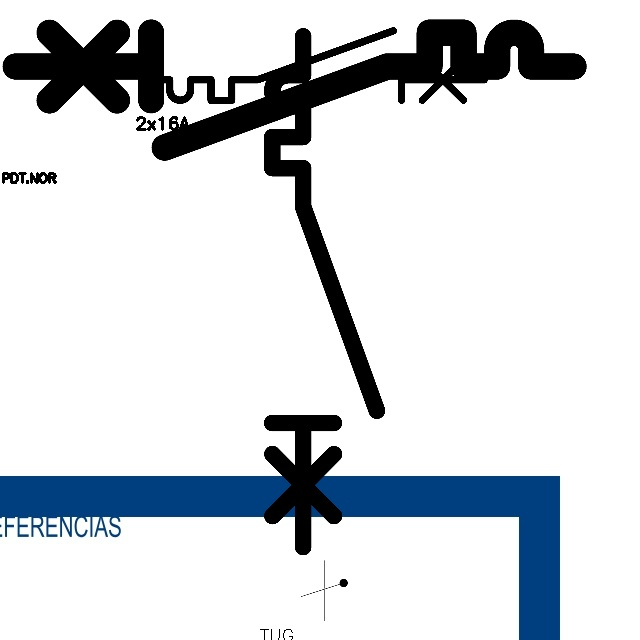interruptor_termomagnetico: (1, 18, 588, 161), (259, 23, 390, 560), (135, 22, 493, 109)
